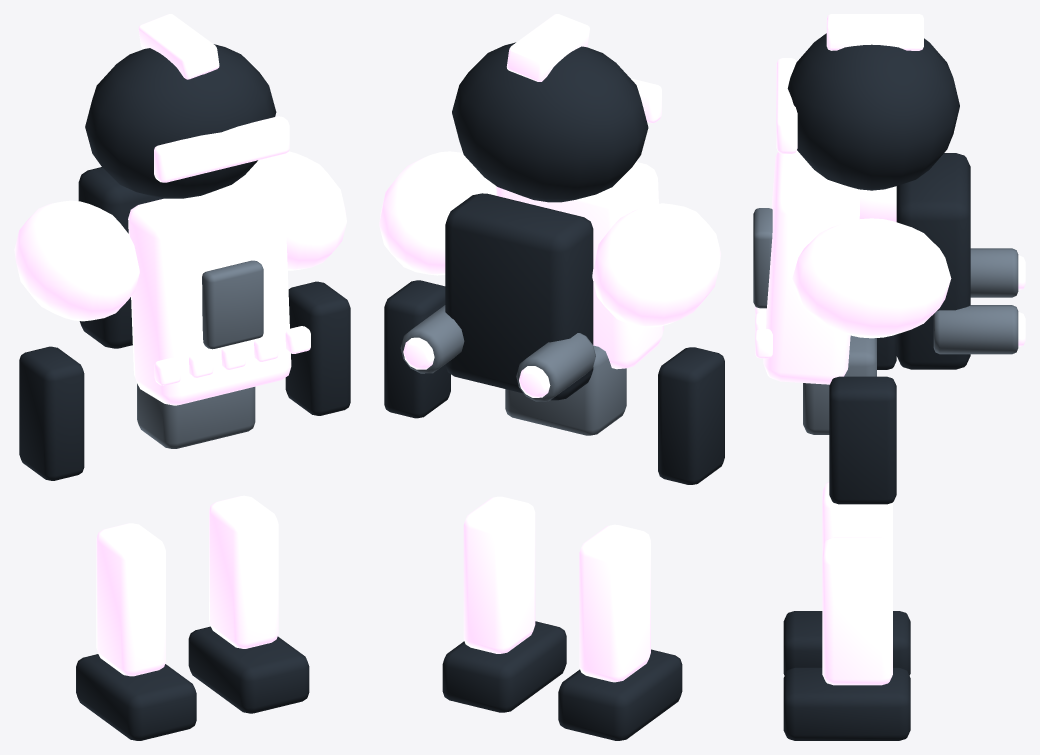
Rendered from Infiltrator_Armor.fbx.
3 renders of one model, left to right at view 1: azimuth 30°, elevation 25°; view 2: azimuth 150°, elevation 25°; view 3: azimuth 270°, elevation 25°, orthographic. The views are drawn at different scales.
Visible parts, largest first — view 1: ChestPlate.002, Helmet.002, Shoulder_L.002, Shin_L.002, Shin_R.002, Forearm_L.002, Boot_R.002, Boot_L.002, Forearm_R.002, Shoulder_R.002, Visor.002, Abdomen.002 (+8 smaller); view 2: BackPlate.002, Helmet.002, Shoulder_L.002, Shin_R.002, Shin_L.002, Forearm_L.002, Shoulder_R.002, Boot_L.002, Boot_R.002, ChestPlate.002, Forearm_R.002, Abdomen.002 (+6 smaller); view 3: Helmet.002, Shoulder_R.002, ChestPlate.002, Shin_R.002, BackPlate.002, Forearm_R.002, Boot_R.002, JetNozzle_R.002, Boot_L.002, HelmetCrest.002, Shin_L.002, Abdomen.002 (+6 smaller).
Boxes of the visible parts, x1,y1,x2,y2 form: ChestPlate.002: (128,179,291,405); Helmet.002: (85,44,276,198); Shoulder_L.002: (14,200,139,321); Shin_L.002: (96,523,165,676); Shin_R.002: (209,495,278,648); Forearm_L.002: (19,346,84,480); Boot_R.002: (188,626,309,713); Boot_L.002: (76,654,196,740); Forearm_R.002: (285,281,350,415); Shoulder_R.002: (238,151,346,270); Visor.002: (154,116,289,182); Abdomen.002: (137,383,255,448); BackPlate.002: (445,193,593,400); Helmet.002: (452,42,648,202); Shoulder_L.002: (592,203,720,327); Shin_R.002: (463,496,535,653); Shin_L.002: (579,524,650,682); Forearm_L.002: (658,347,724,484); Shoulder_R.002: (379,151,496,275); Boot_L.002: (558,649,682,740); Boot_R.002: (442,621,566,712); ChestPlate.002: (496,162,663,369); Forearm_R.002: (384,280,450,418); Abdomen.002: (505,345,626,435); Helmet.002: (787,33,959,190); Shoulder_R.002: (792,218,951,338); ChestPlate.002: (763,150,859,384); Shin_R.002: (822,537,892,685); BackPlate.002: (896,153,970,369); Forearm_R.002: (829,376,896,504); Boot_R.002: (783,667,910,740); JetNozzle_R.002: (933,305,1018,354); Boot_L.002: (783,611,910,675); HelmetCrest.002: (826,14,923,50); Shin_L.002: (822,482,892,547); Abdomen.002: (803,335,876,434).
Bounding box in the file's own units: 208 × 426 × 154.
